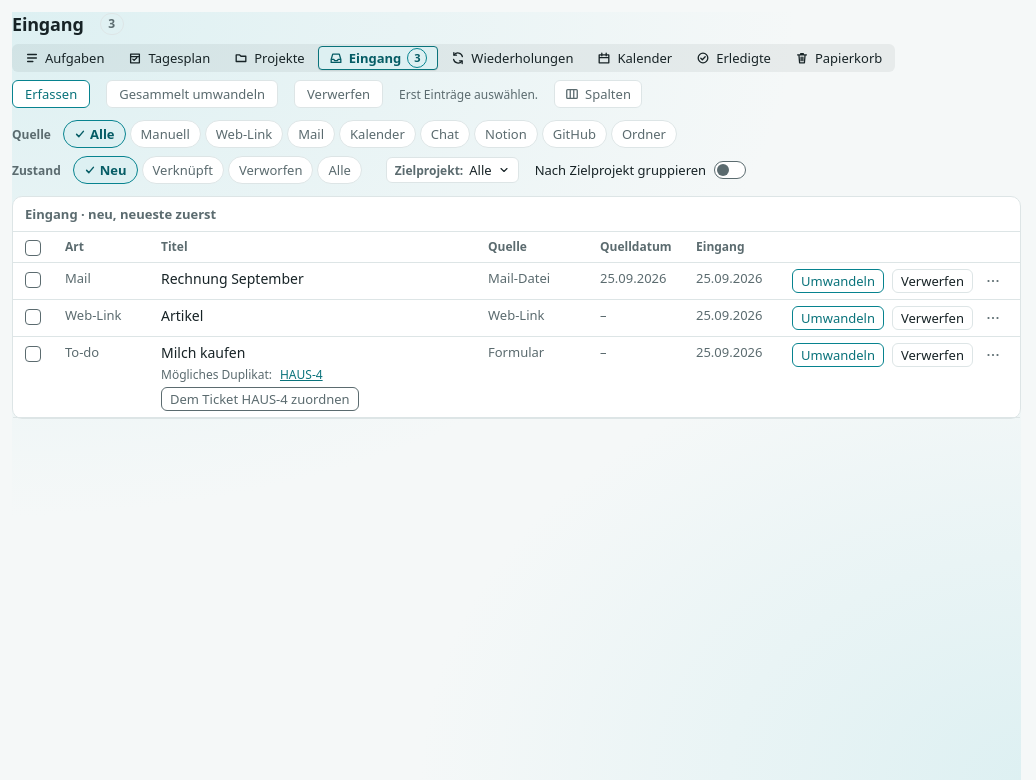
inbox table › marks a possible duplicate and assigns the entry to the ticket
The image size is (1036, 780).
Check: the text "Mögliches Duplikat:" is shown, box x1=161 y1=366 x2=272 y2=383
Click the button "Dem Ticket HAUS-4 zuordnen" at (260, 399), box x1=161 y1=387 x2=359 y2=411
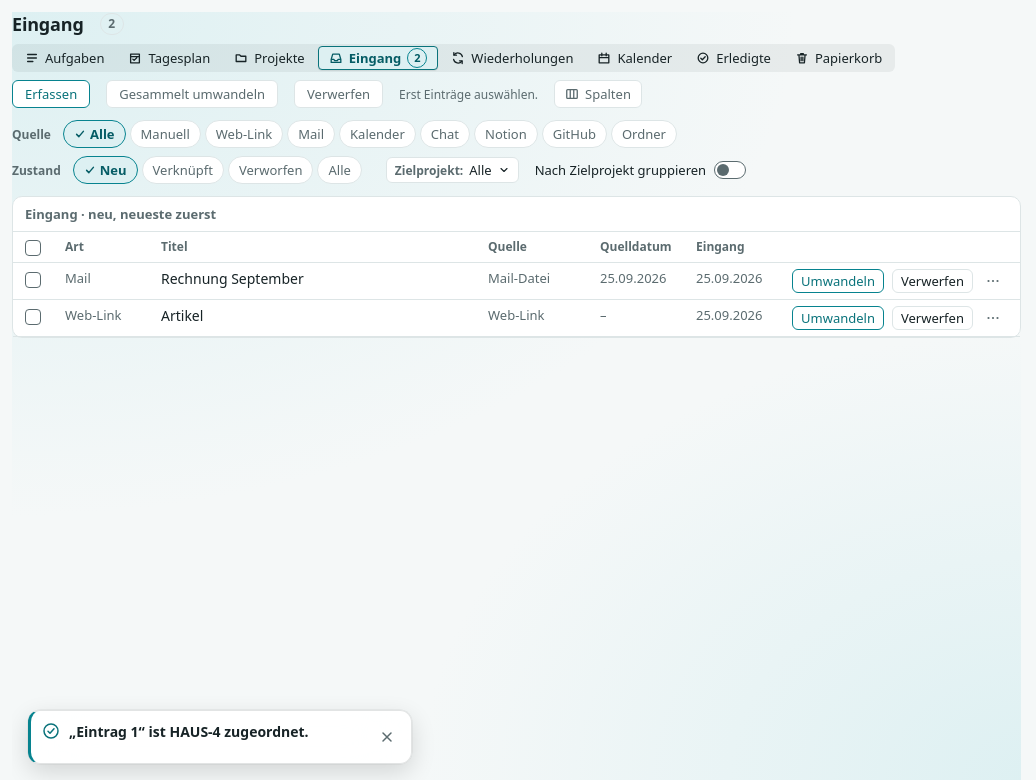
Check: the link "Milch kaufen" is gone
